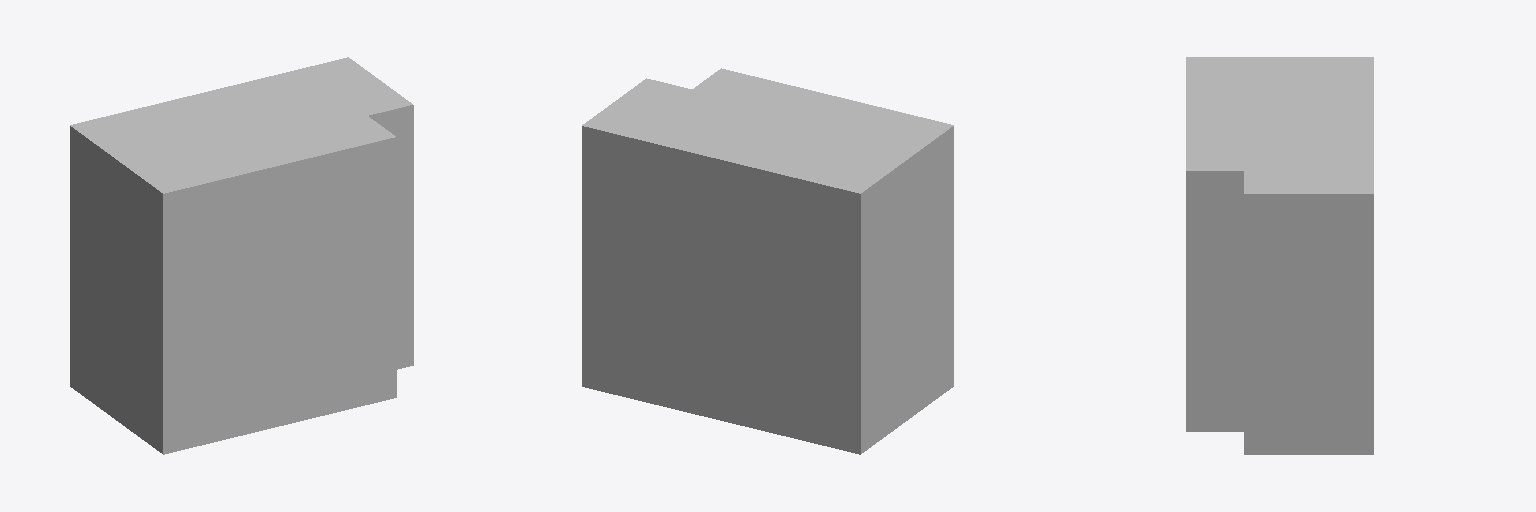
Rendered from SurfaceModel.obj.
3 views of the same model, side by side, from view 1: azimuth 30°, elevation 25°; view 2: azimuth 150°, elevation 25°; view 3: azimuth 270°, elevation 25° (orthographic).
Size of the model in its own units: 122 by 109 by 71.